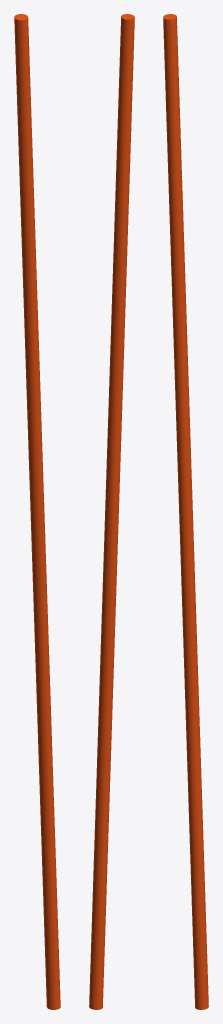
File: xian.obj
3 views of the same model, side by side, from view 1: azimuth 30°, elevation 25°; view 2: azimuth 210°, elevation 25°; view 3: azimuth 330°, elevation 25° (orthographic).
Parts seen in each view (by area): view 1: pCylinder1 group1; view 2: pCylinder1 group1; view 3: pCylinder1 group1.
Boxes of the visible parts, bbox=[...] form: pCylinder1 group1: bbox=[14, 14, 60, 1009]; pCylinder1 group1: bbox=[89, 14, 134, 1009]; pCylinder1 group1: bbox=[163, 14, 208, 1009].
Bounding box in the file's own units: 1.5 × 32.2 × 0.4316.
